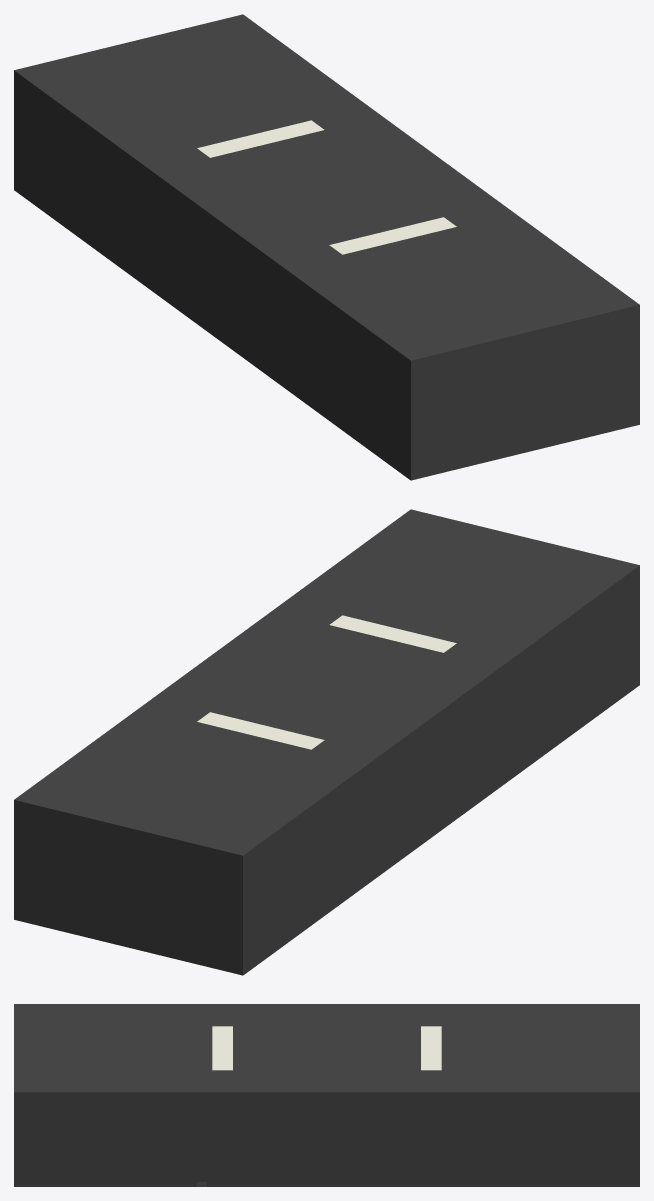
Rendered from carrereta3oscura.obj.
3 renders of one model, top to bottom at view 1: azimuth 30°, elevation 25°; view 2: azimuth 150°, elevation 25°; view 3: azimuth 270°, elevation 25°, orthographic. The views are drawn at different scales.
Size of the model in its own units: 40 by 20 by 120.
1 material, 1 textured.
